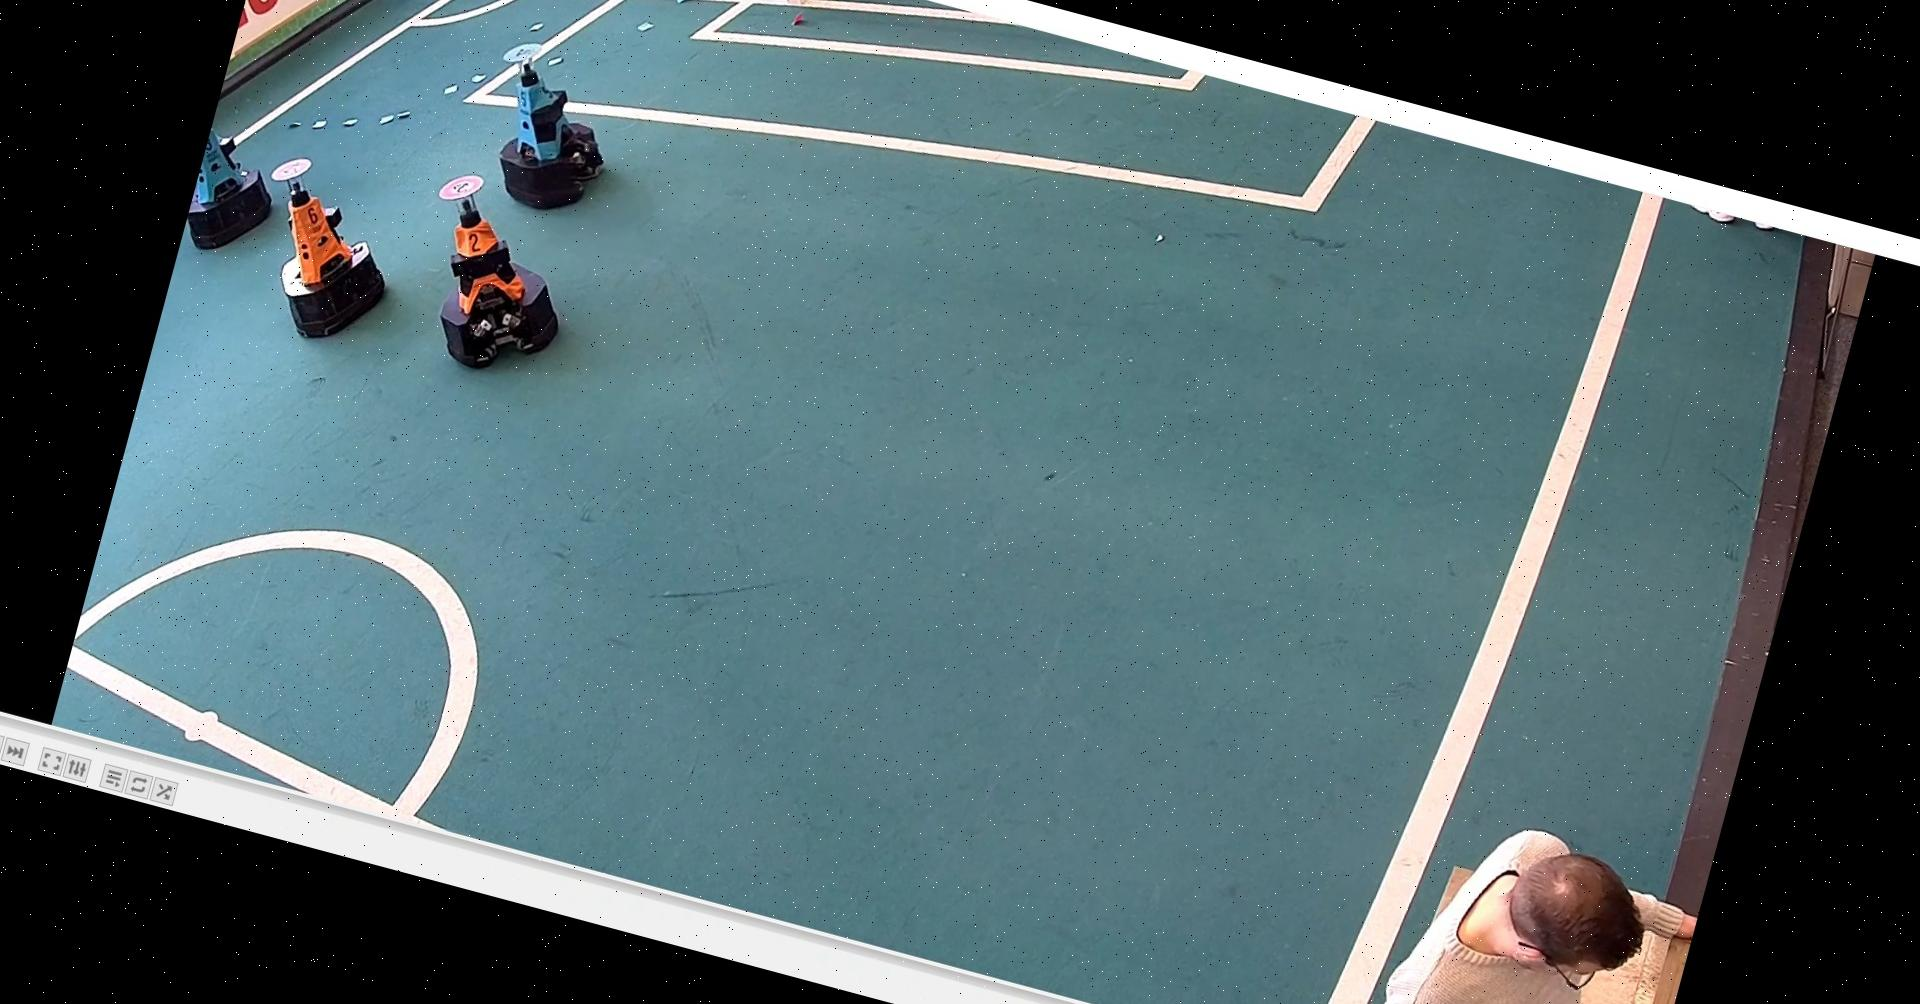Team_Blue: (460, 29, 646, 230), (179, 112, 311, 270)
Team_Red: (395, 157, 601, 388), (234, 147, 410, 352), (1473, 821, 1656, 990)
